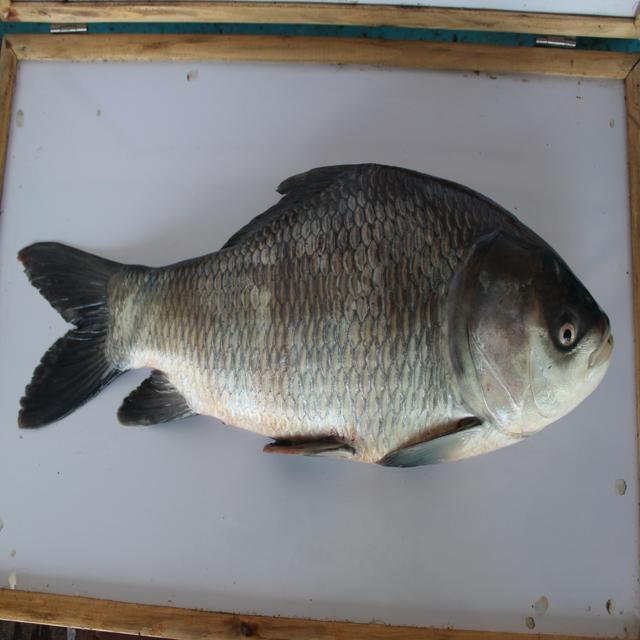Catla: (14, 158, 621, 476)
